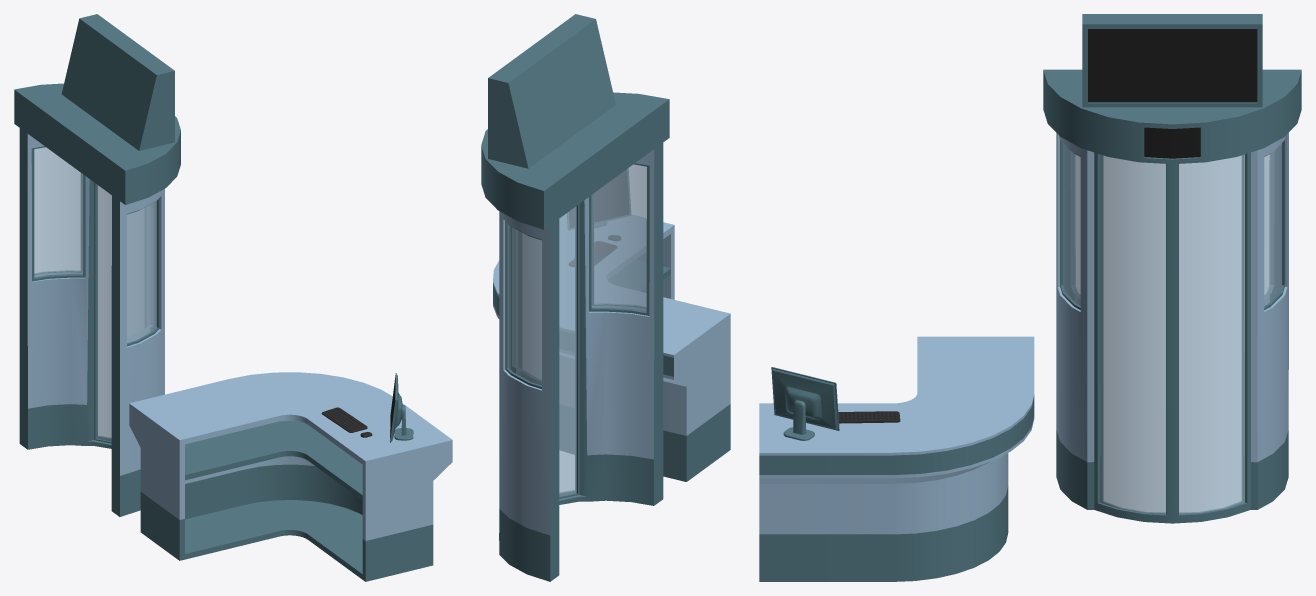
Rendered from airport-boarding-desk.glb.
The picture shows the model from 3 angles, left to right: view 1: azimuth 30°, elevation 25°; view 2: azimuth 150°, elevation 25°; view 3: azimuth 270°, elevation 25°; orthographic projection. The views are drawn at different scales.
Parts seen in each view (by area): view 1: 11.BoardingAreaDesk_AIRPORT_0; view 2: 11.BoardingAreaDesk_AIRPORT_0; view 3: 11.BoardingAreaDesk_AIRPORT_0.
Boxes of the visible parts, left/top/right/bottom form: 11.BoardingAreaDesk_AIRPORT_0: left=14, top=14, right=452, bottom=581; 11.BoardingAreaDesk_AIRPORT_0: left=481, top=14, right=730, bottom=581; 11.BoardingAreaDesk_AIRPORT_0: left=759, top=14, right=1301, bottom=581.
Bounding box in the file's own units: 1.86 × 3.66 × 3.67.
Materials: 1 (1 with a texture image).
